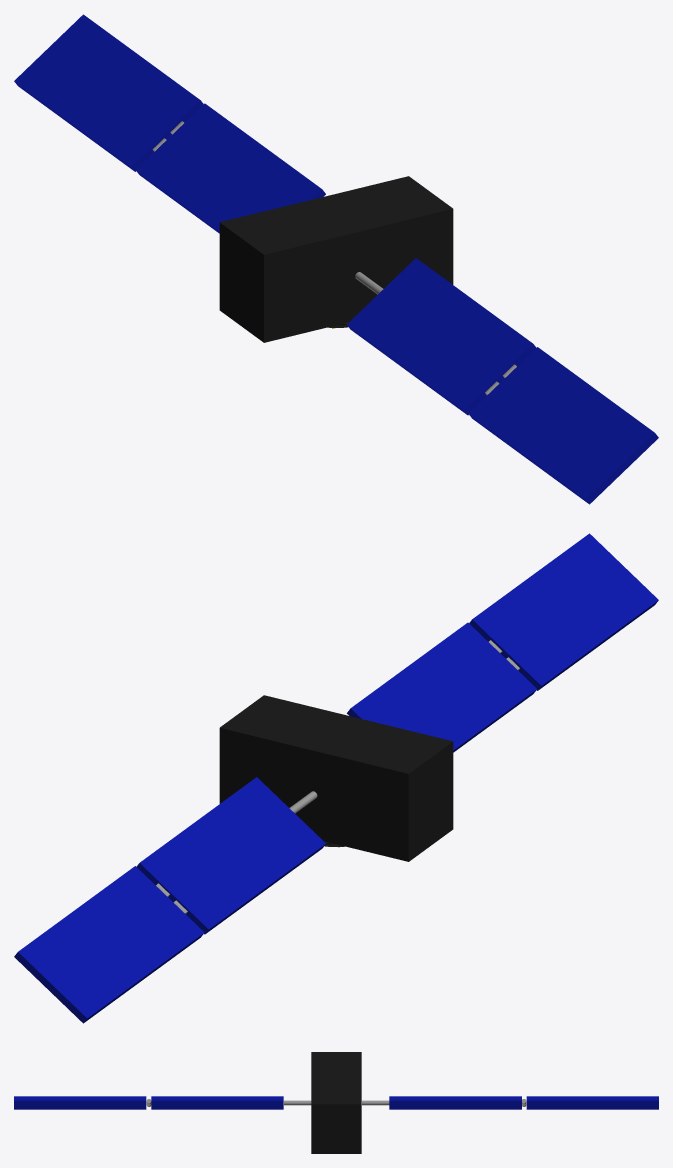
File: galileo.obj
The picture shows the model from 3 angles, top to bottom: view 1: azimuth 30°, elevation 25°; view 2: azimuth 150°, elevation 25°; view 3: azimuth 270°, elevation 25°; orthographic projection. The views are drawn at different scales.
Visible parts, largest first — view 1: SolarPanels, Spacecraftbus; view 2: SolarPanels, Spacecraftbus; view 3: SolarPanels, Spacecraftbus, Metal.
Boxes of the visible parts, x1,y1,x2,y2 form: SolarPanels: [14, 14, 658, 504]; Spacecraftbus: [219, 176, 453, 342]; SolarPanels: [14, 533, 658, 1023]; Spacecraftbus: [219, 695, 453, 861]; SolarPanels: [14, 1096, 658, 1109]; Spacecraftbus: [311, 1052, 361, 1153]; Metal: [146, 1099, 526, 1106].
Size of the model in its own units: 2.49 by 1.2 by 13.
